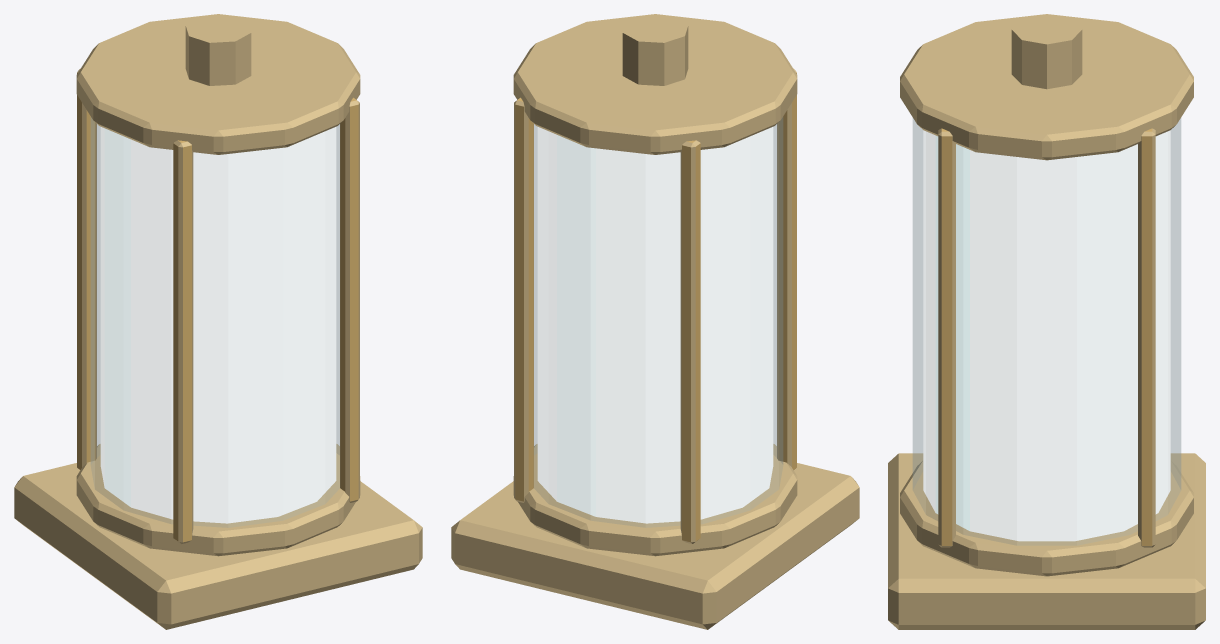
Rendered from Out_Tank.fbx.
3 renders of one model, left to right at view 1: azimuth 30°, elevation 25°; view 2: azimuth 150°, elevation 25°; view 3: azimuth 270°, elevation 25°, orthographic. The views are drawn at different scales.
Parts seen in each view (by area): view 1: Out_Tank, Liquid.004; view 2: Out_Tank, Liquid.004; view 3: Out_Tank, Liquid.004.
Part boxes in pixels (box(x1,y1,x2,y2)): Out_Tank: box(14, 14, 422, 629); Liquid.004: box(100, 127, 336, 523); Out_Tank: box(451, 14, 859, 629); Liquid.004: box(537, 127, 773, 523); Out_Tank: box(888, 14, 1205, 629); Liquid.004: box(923, 130, 1170, 541).
Size of the model in its own units: 0.9 by 1.68 by 0.9.
